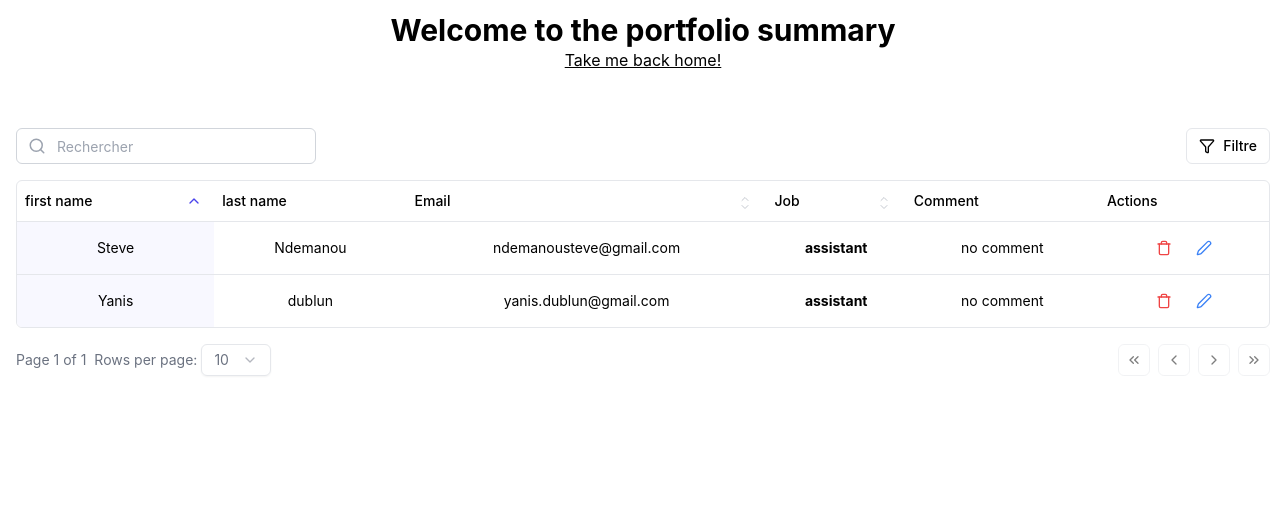
Test: PortfolioSummary › renders a list of email addresses
Click the text with test id "job-id-1". click: x=836, y=247
box: [805,238,868,256]
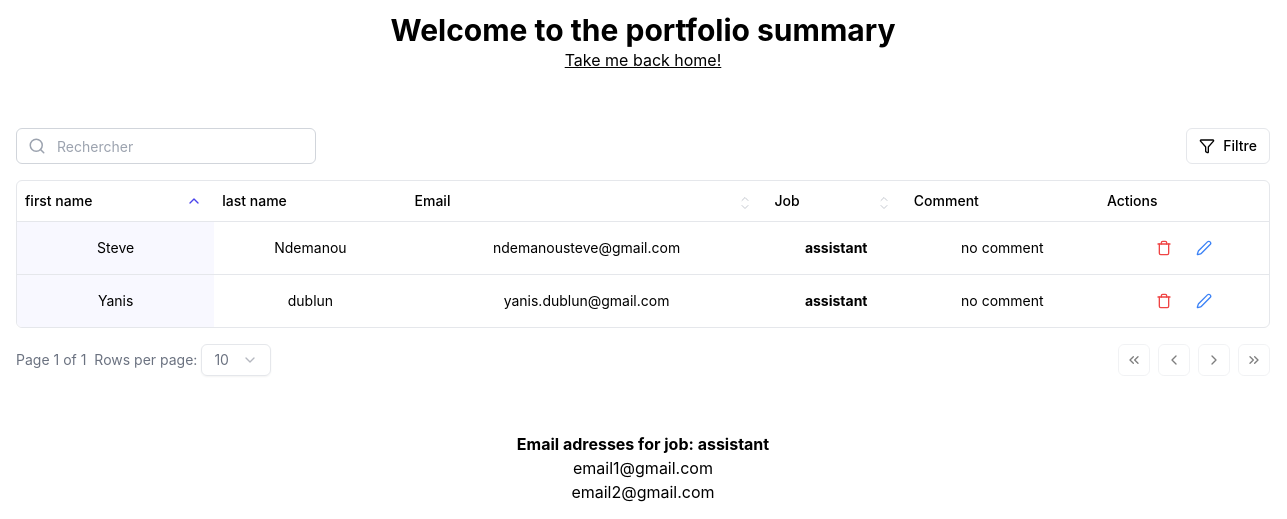
Result: the list item "email1@gmail.com" is shown at [573,458,713,478]
Result: the list item "email2@gmail.com" is shown at [571,482,715,502]
